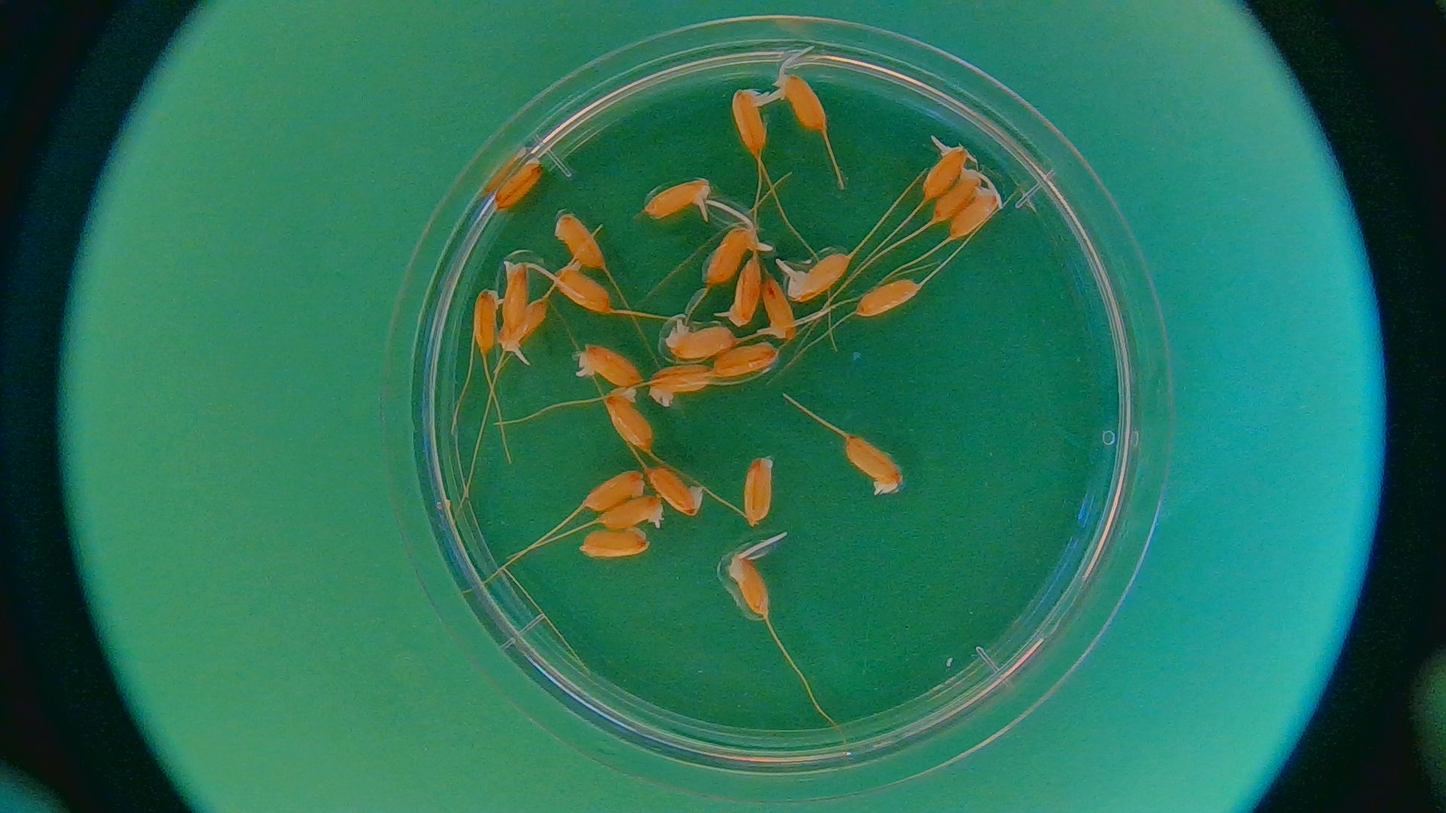no: (601, 387, 650, 454), (553, 212, 608, 267), (647, 466, 703, 517), (498, 259, 532, 336), (649, 365, 715, 404), (493, 157, 542, 209), (586, 470, 645, 512), (713, 342, 778, 378), (859, 280, 917, 315), (578, 528, 648, 556), (475, 288, 503, 356), (745, 457, 772, 523)
yes: (770, 72, 827, 131), (844, 437, 901, 495), (782, 253, 848, 300), (706, 223, 757, 283), (718, 255, 761, 324), (950, 188, 1004, 242), (667, 318, 736, 357), (646, 179, 710, 221), (503, 299, 548, 358), (727, 90, 767, 154), (559, 263, 611, 312), (580, 346, 641, 387), (924, 139, 967, 196), (934, 169, 982, 220), (761, 273, 796, 341), (731, 558, 768, 617), (599, 495, 664, 528)
